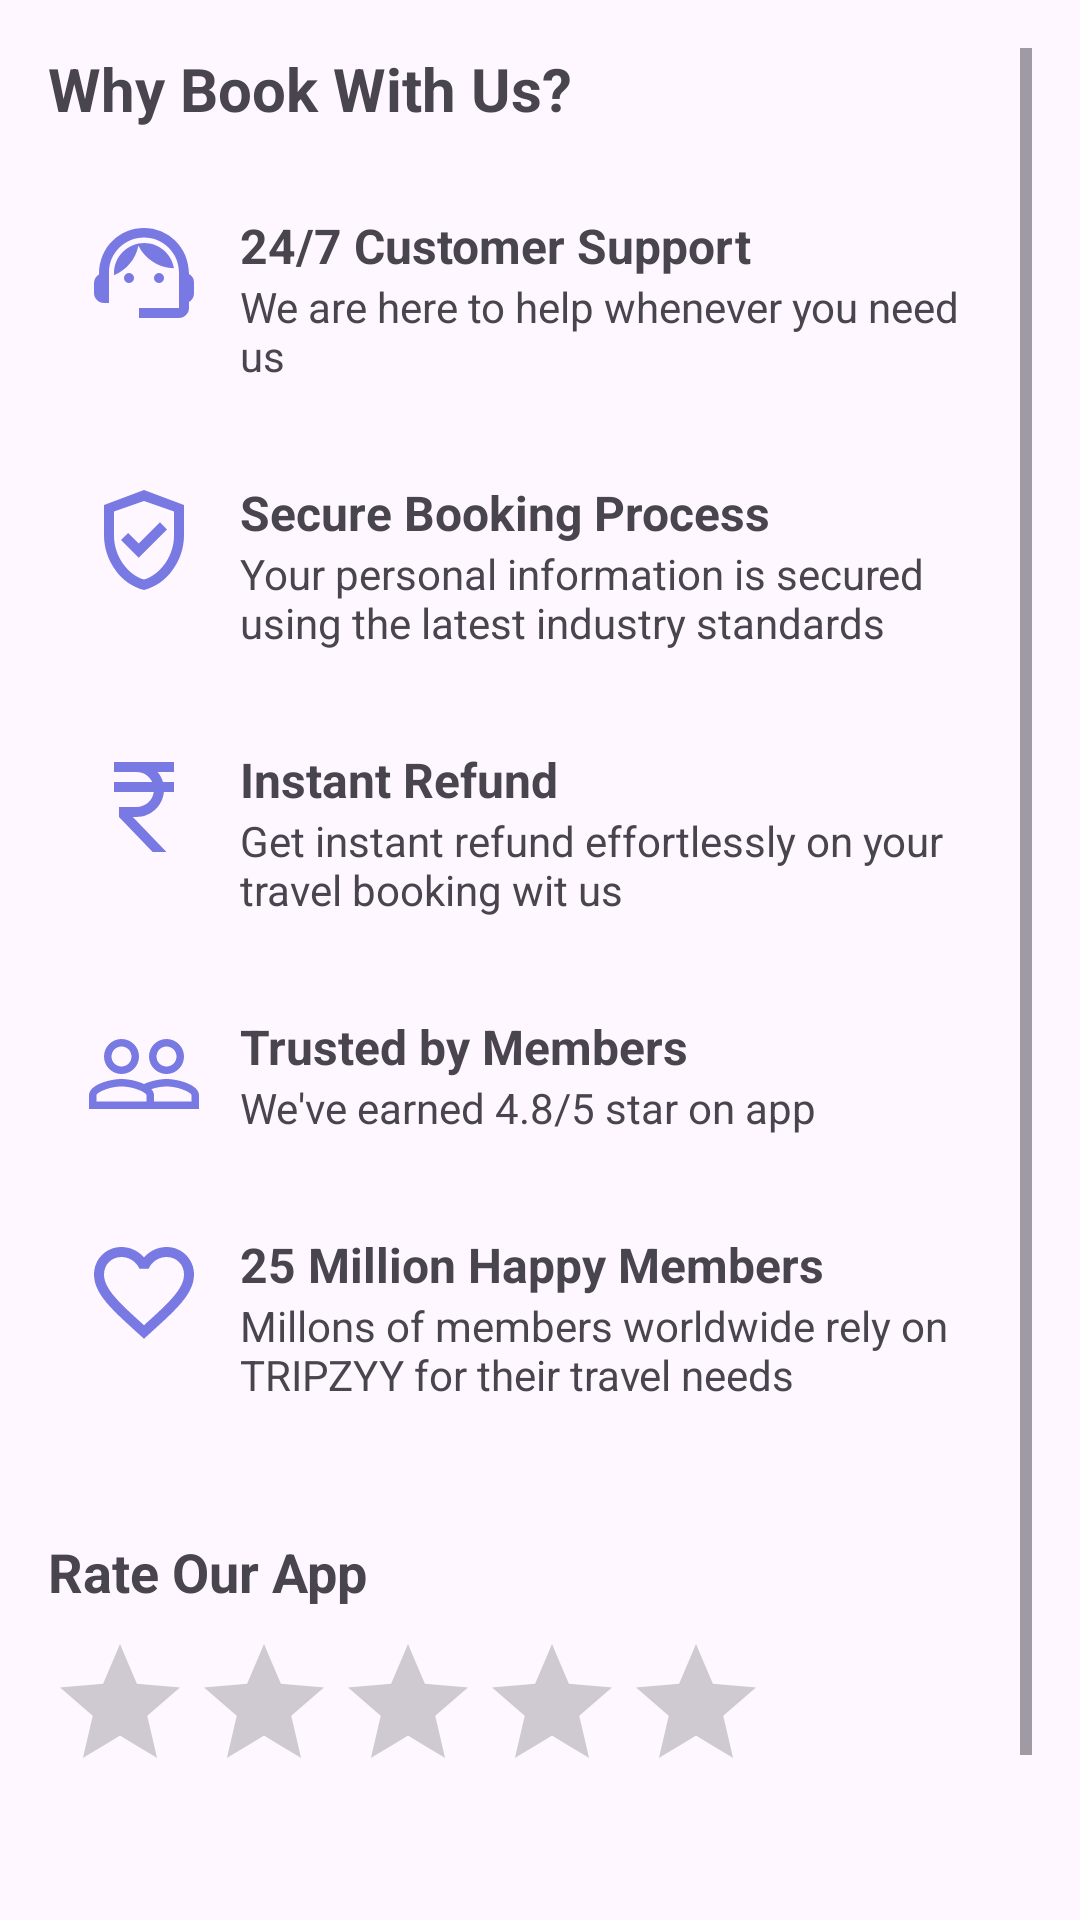

Icons on this 1080*1920 Android screen, each with its box as (x1, y1, x2, y2):
currency: (114, 762, 174, 852)
favorite: (94, 1247, 194, 1339)
trusted mem: (89, 1039, 199, 1109)
